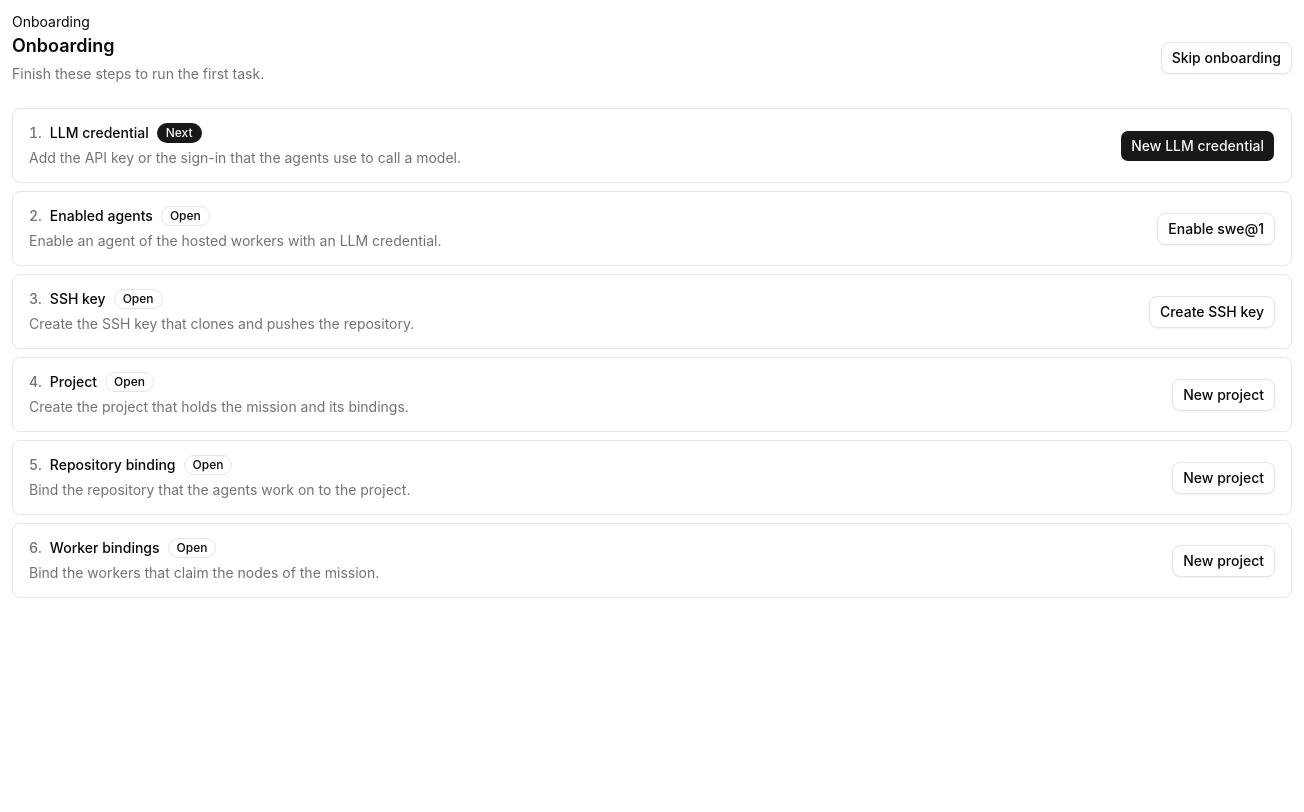
Test case: OnboardingScreen › opens the LLM form with the return path of Onboarding
Click the button "New LLM credential".
click(1198, 146)  # box [1120,130,1275,162]
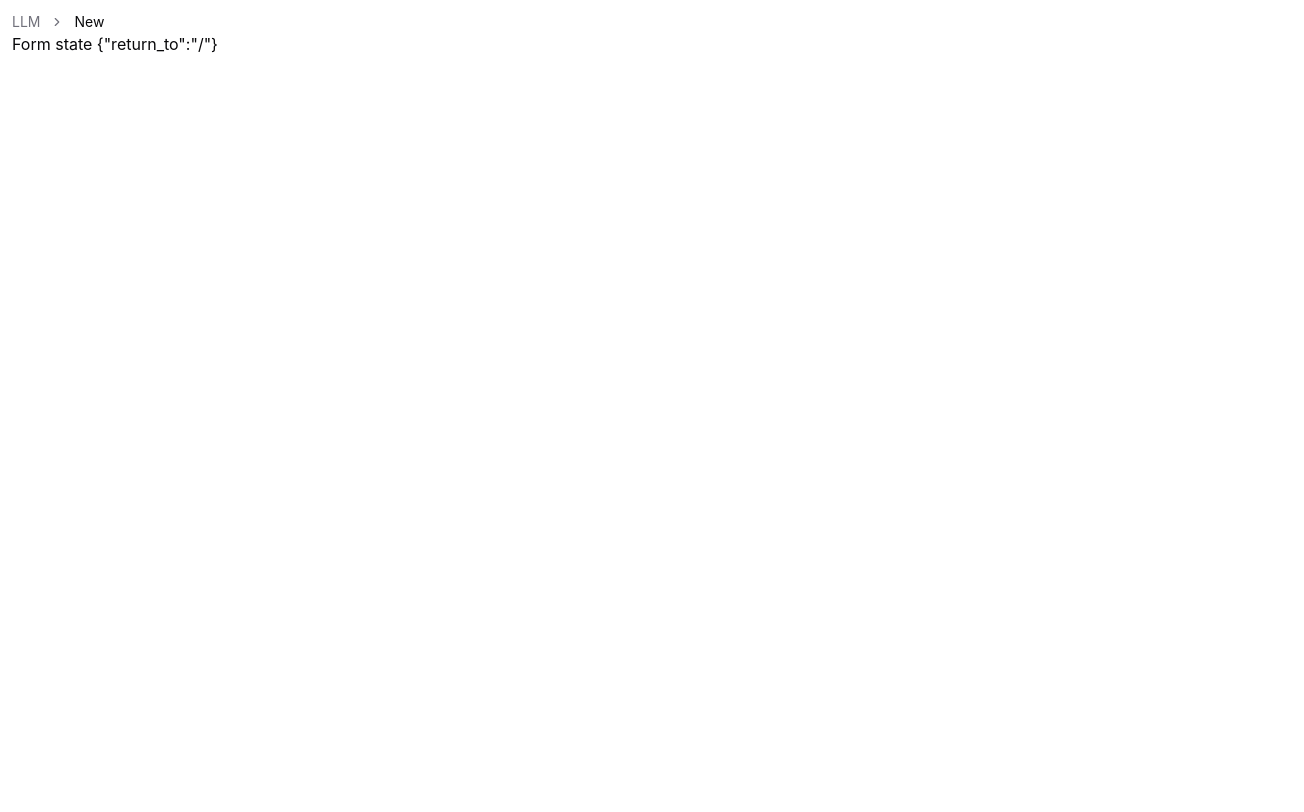
Check: the text "Form state {\"return_to\":\"/\"}" is shown, box [12,34,218,54]
